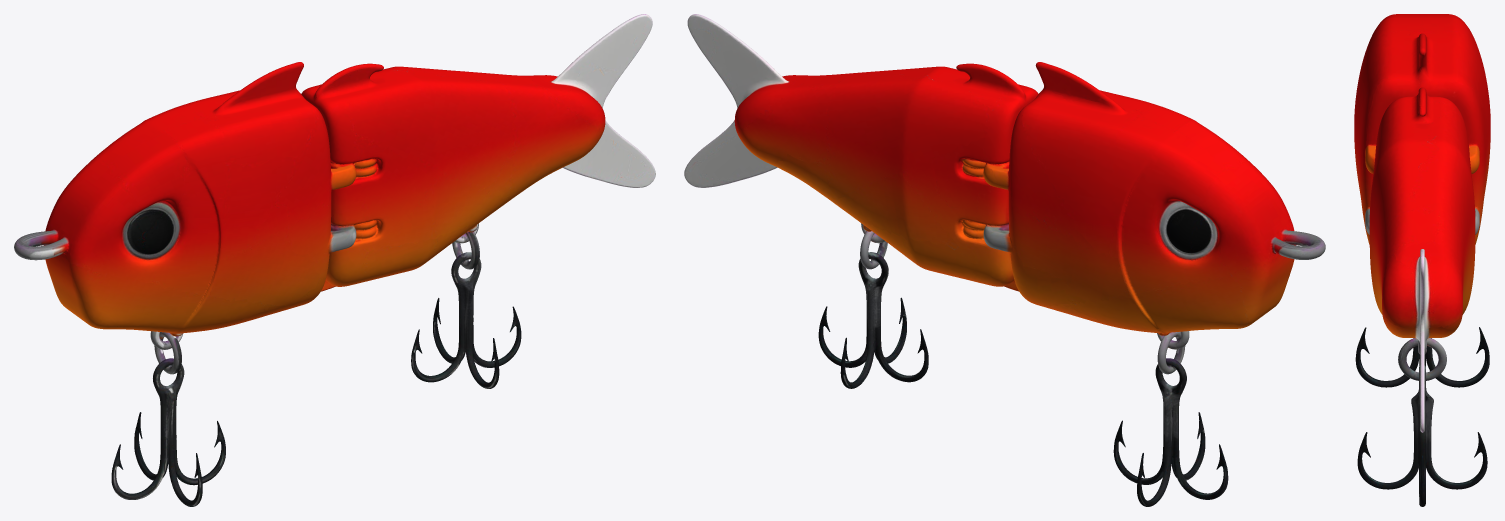
The model's file is leurre-orange.glb.
3 renders of one model, left to right at view 1: azimuth 30°, elevation 25°; view 2: azimuth 150°, elevation 25°; view 3: azimuth 270°, elevation 25°, orthographic.
Size of the model in its own units: 1.9 by 1.13 by 0.346.
Materials: 1 (1 with a texture image).
